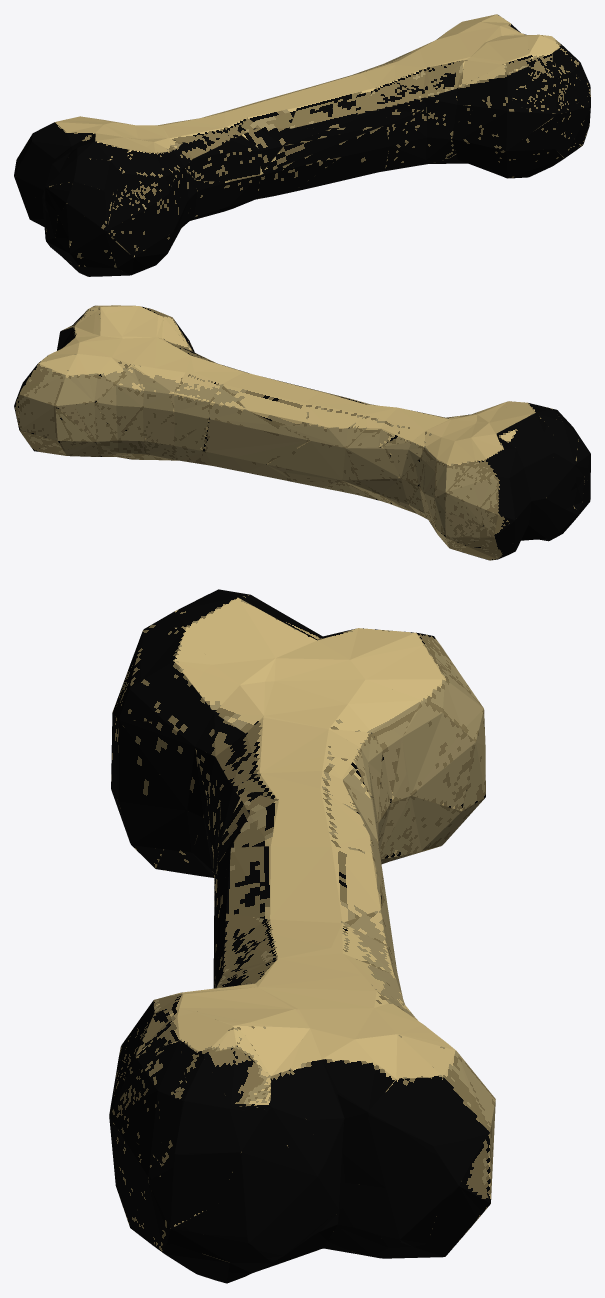
The picture shows the model from 3 angles, top to bottom: view 1: azimuth 30°, elevation 25°; view 2: azimuth 150°, elevation 25°; view 3: azimuth 270°, elevation 25°; orthographic projection. The views are drawn at different scales.
Parts seen in each view (by area): view 1: OBJ0c5; view 2: OBJ0c5; view 3: OBJ0c5.
Part boxes in pixels (x1,y1,x2,y2): OBJ0c5: (14,14,590,276); OBJ0c5: (14,305,590,560); OBJ0c5: (109,589,495,1283).
Bounding box in the file's own units: 0.2408 × 0.0567 × 0.0773.
1 material, 1 textured.
